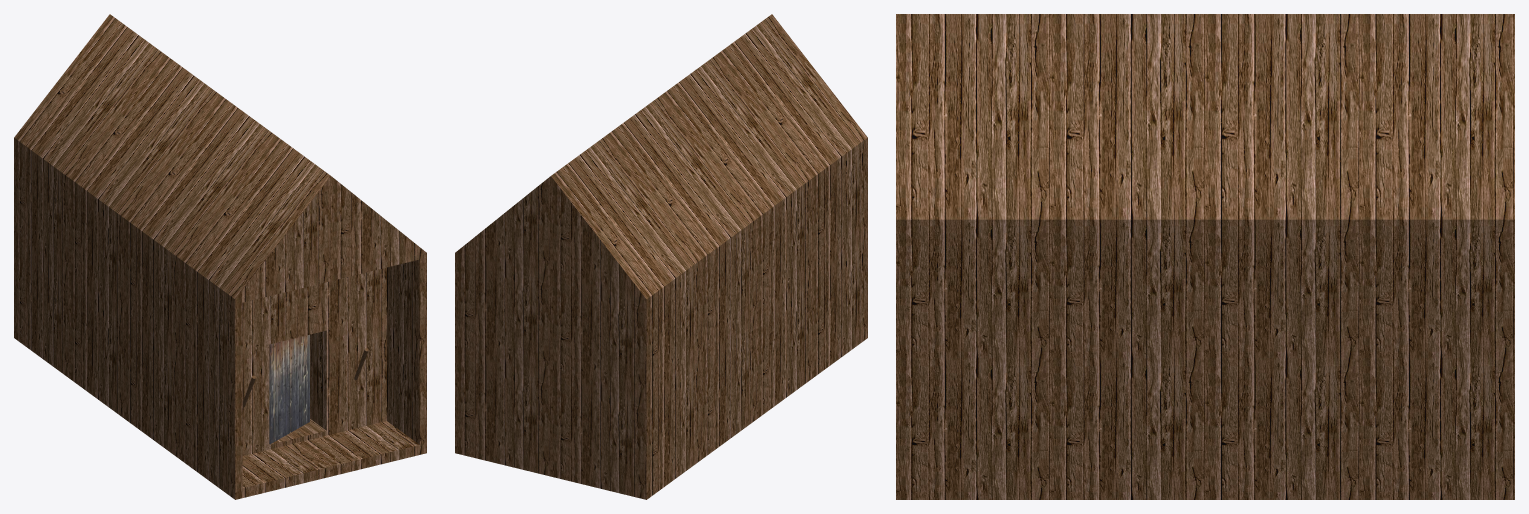
File: house.FBX
3 renders of one model, left to right at view 1: azimuth 30°, elevation 25°; view 2: azimuth 150°, elevation 25°; view 3: azimuth 270°, elevation 25°, orthographic. The views are drawn at different scales.
Visible parts, largest first — view 1: house; view 2: house; view 3: house.
Boxes of the visible parts, <box> form: house: <box>14,14,426,499</box>; house: <box>455,14,867,499</box>; house: <box>896,14,1514,499</box>.
Bounding box in the file's own units: 10 × 20 × 15.
Materials: 2 (2 with a texture image).
